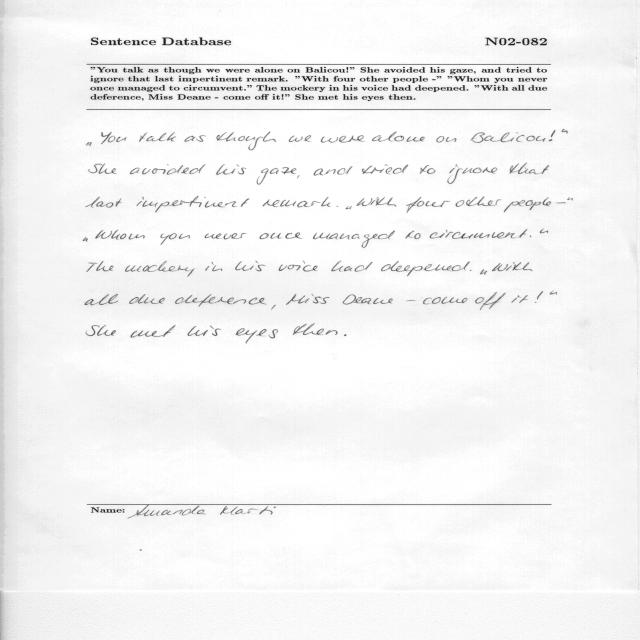word: (137, 196, 250, 213), (313, 230, 395, 248), (381, 261, 470, 276), (175, 294, 266, 307), (217, 132, 277, 151), (125, 261, 194, 277), (448, 164, 498, 184), (430, 229, 528, 239), (470, 132, 546, 143), (130, 164, 205, 175), (406, 196, 450, 213), (257, 167, 297, 185), (504, 197, 551, 212), (235, 328, 278, 344), (263, 197, 331, 207), (372, 131, 425, 142), (475, 292, 506, 310), (343, 294, 393, 305), (131, 325, 176, 337), (456, 196, 502, 207), (95, 230, 145, 240), (293, 324, 338, 335), (286, 294, 329, 305), (331, 261, 373, 272), (362, 165, 408, 175), (510, 164, 549, 175), (357, 197, 397, 207), (86, 197, 122, 208), (279, 261, 318, 271), (314, 166, 352, 176), (139, 132, 176, 142), (492, 262, 533, 271), (85, 294, 118, 305), (160, 233, 190, 245), (129, 294, 165, 304), (321, 135, 365, 143), (87, 132, 112, 146), (187, 326, 221, 336), (216, 164, 246, 175), (86, 325, 116, 336), (235, 261, 266, 271), (89, 163, 117, 174), (423, 297, 467, 304), (260, 233, 303, 240), (87, 261, 114, 272), (205, 233, 247, 239), (206, 262, 223, 272), (184, 135, 206, 142), (289, 135, 311, 142), (420, 165, 436, 174), (437, 136, 457, 143), (512, 295, 529, 303), (405, 231, 421, 239), (108, 136, 126, 142), (535, 291, 543, 303), (549, 130, 556, 141), (480, 269, 487, 275), (540, 229, 549, 233), (562, 129, 568, 134), (83, 237, 88, 242), (271, 305, 276, 310), (567, 197, 573, 201), (345, 206, 352, 209), (550, 292, 557, 295), (556, 202, 566, 204), (406, 300, 415, 301), (297, 175, 299, 179), (530, 236, 532, 238), (344, 334, 346, 336), (337, 206, 339, 207), (470, 270, 471, 271)
